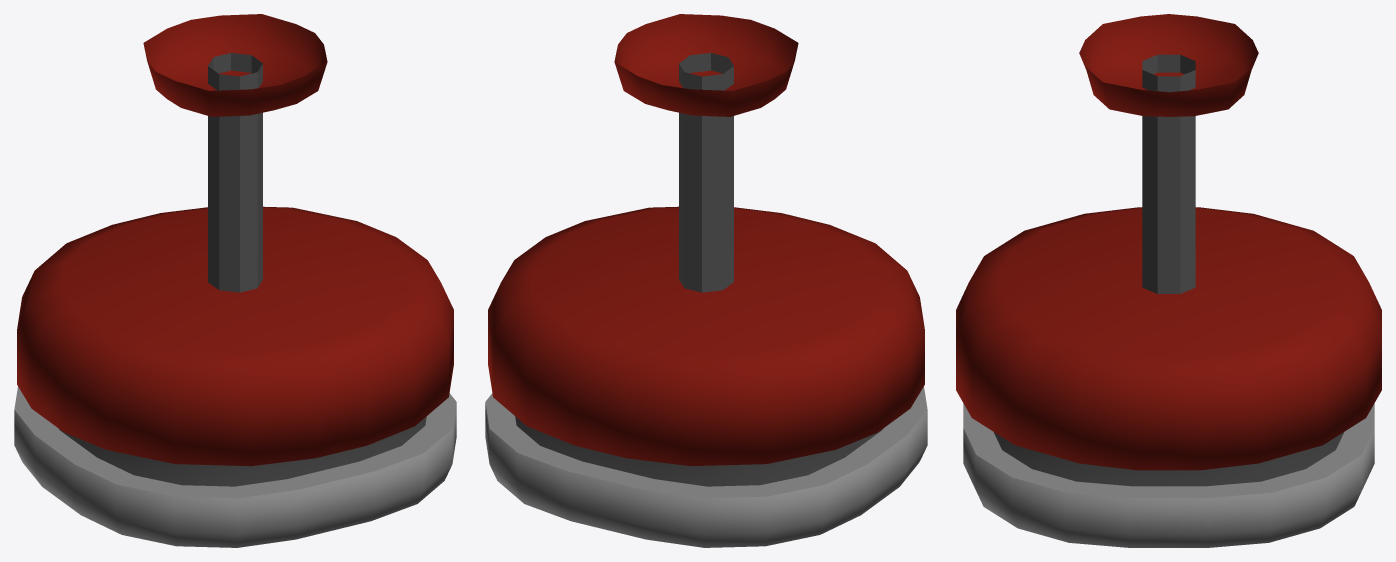
File: ceiling_fan.glb
The picture shows the model from 3 angles, left to right: view 1: azimuth 30°, elevation 25°; view 2: azimuth 150°, elevation 25°; view 3: azimuth 270°, elevation 25°; orthographic projection.
Visible parts, largest first — view 1: Ceiling Fan Base; view 2: Ceiling Fan Base; view 3: Ceiling Fan Base.
Boxes of the visible parts, x1,y1,x2,y2 form: Ceiling Fan Base: [14, 14, 456, 547]; Ceiling Fan Base: [485, 14, 927, 547]; Ceiling Fan Base: [956, 14, 1381, 547].
Size of what is drawn, in the model's own units: 0.2369 by 0.2494 by 0.2311.
Materials: 1 (1 with a texture image).
